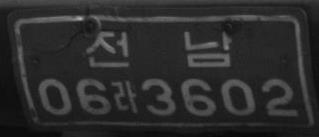0: (36, 76, 73, 117), (219, 77, 256, 117)
2: (261, 77, 299, 118)
3: (141, 77, 177, 117)
6: (74, 77, 113, 116), (179, 77, 217, 117)
라: (113, 79, 140, 114)
전남_D: (80, 29, 234, 69)
